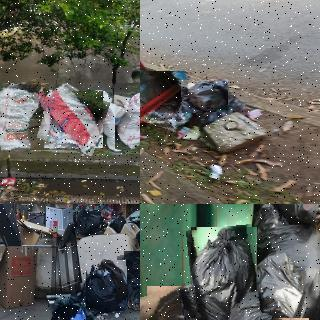Garbage: (188, 225, 259, 320), (40, 87, 107, 152), (251, 252, 310, 320), (140, 281, 240, 320), (0, 80, 53, 153), (140, 66, 189, 127), (86, 260, 127, 311), (114, 82, 140, 149), (182, 80, 228, 112), (120, 249, 140, 310), (270, 204, 320, 226), (75, 206, 102, 236), (168, 108, 197, 128), (109, 211, 126, 232), (136, 222, 140, 246)
